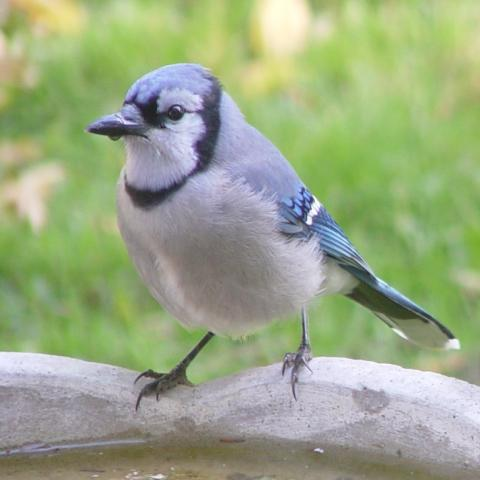bird: (82, 60, 460, 412)
